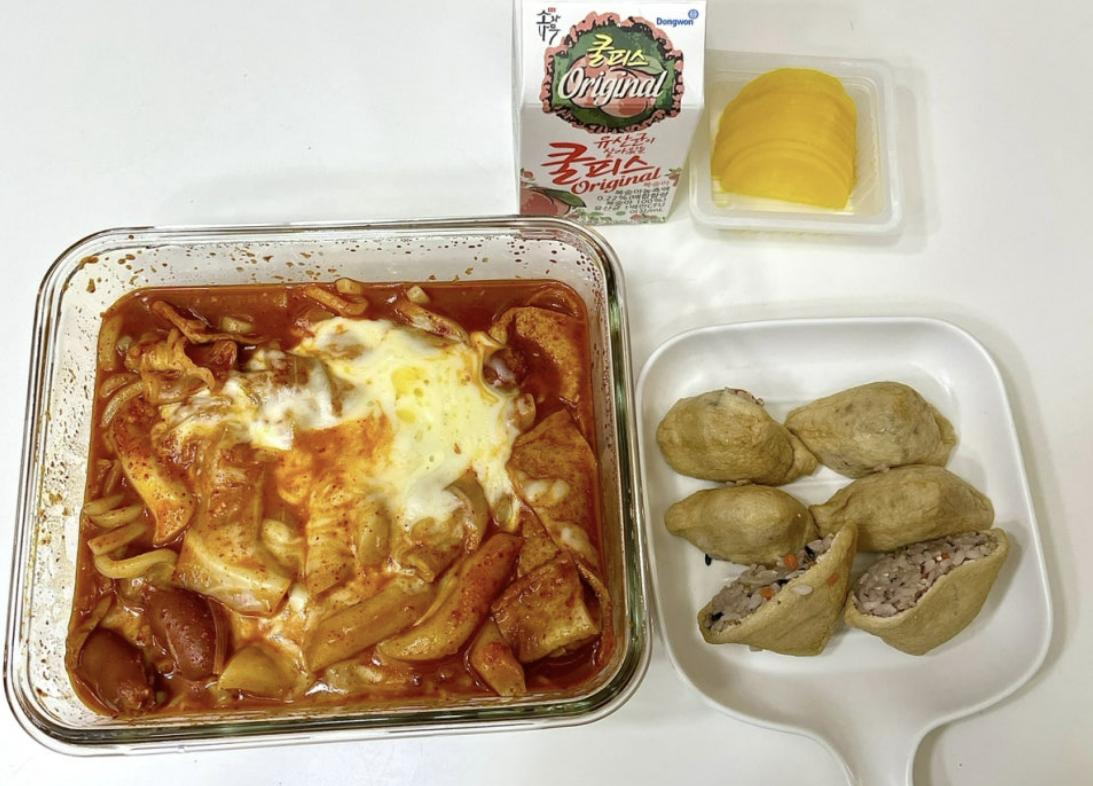Lunch Box: (4, 219, 646, 751), (639, 318, 1050, 785)
